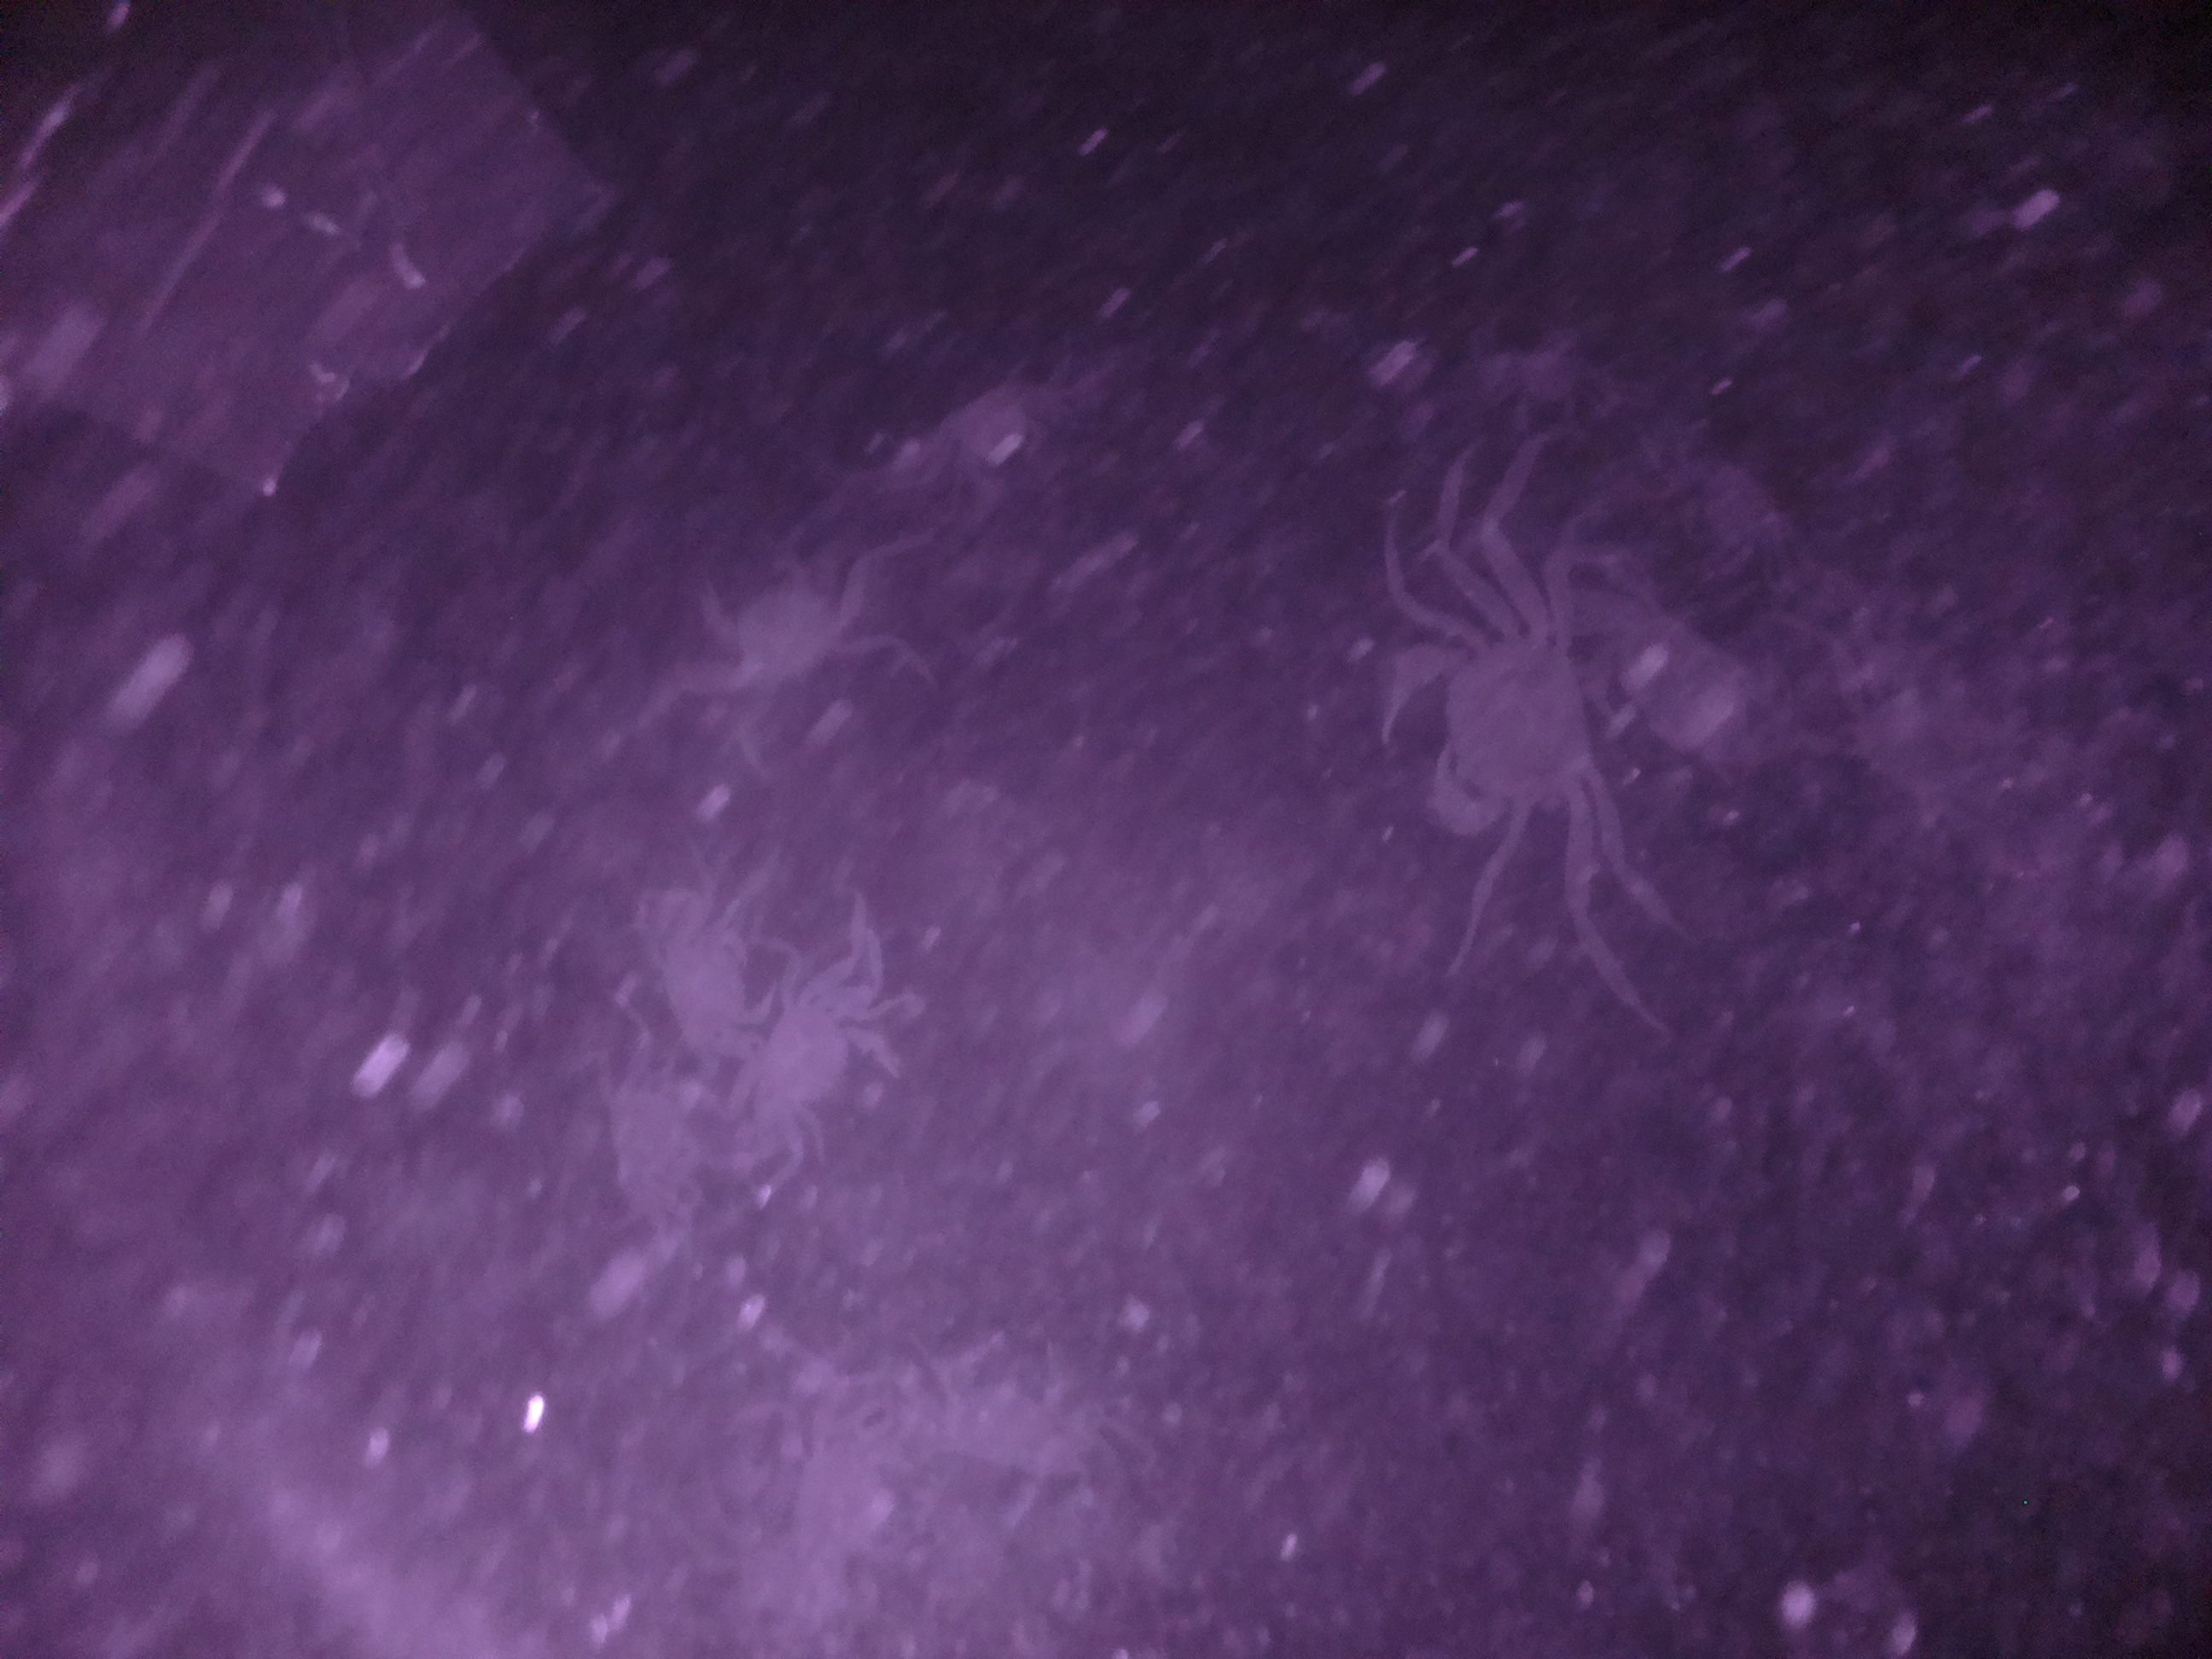Crab: (1366, 551, 1620, 918), (719, 911, 900, 1155)
